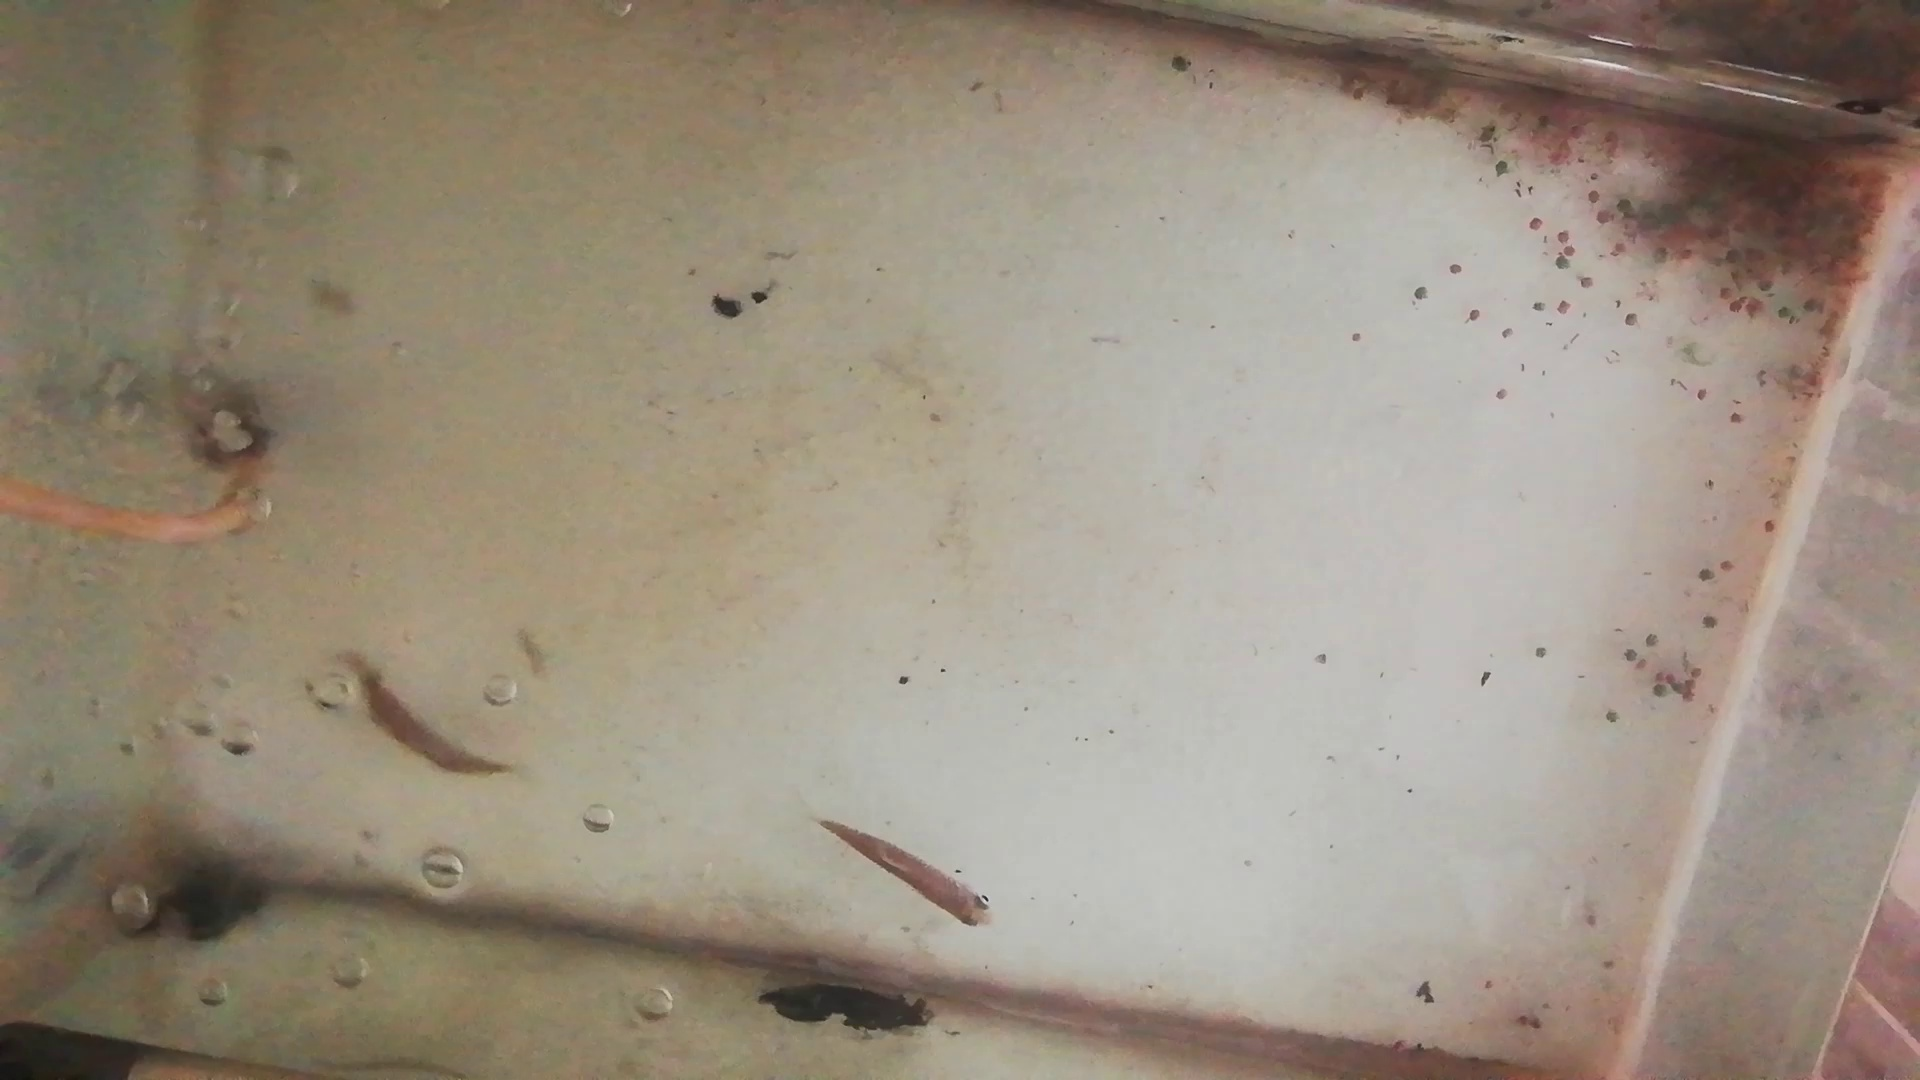fish: (338, 654, 513, 781), (819, 822, 998, 934)
